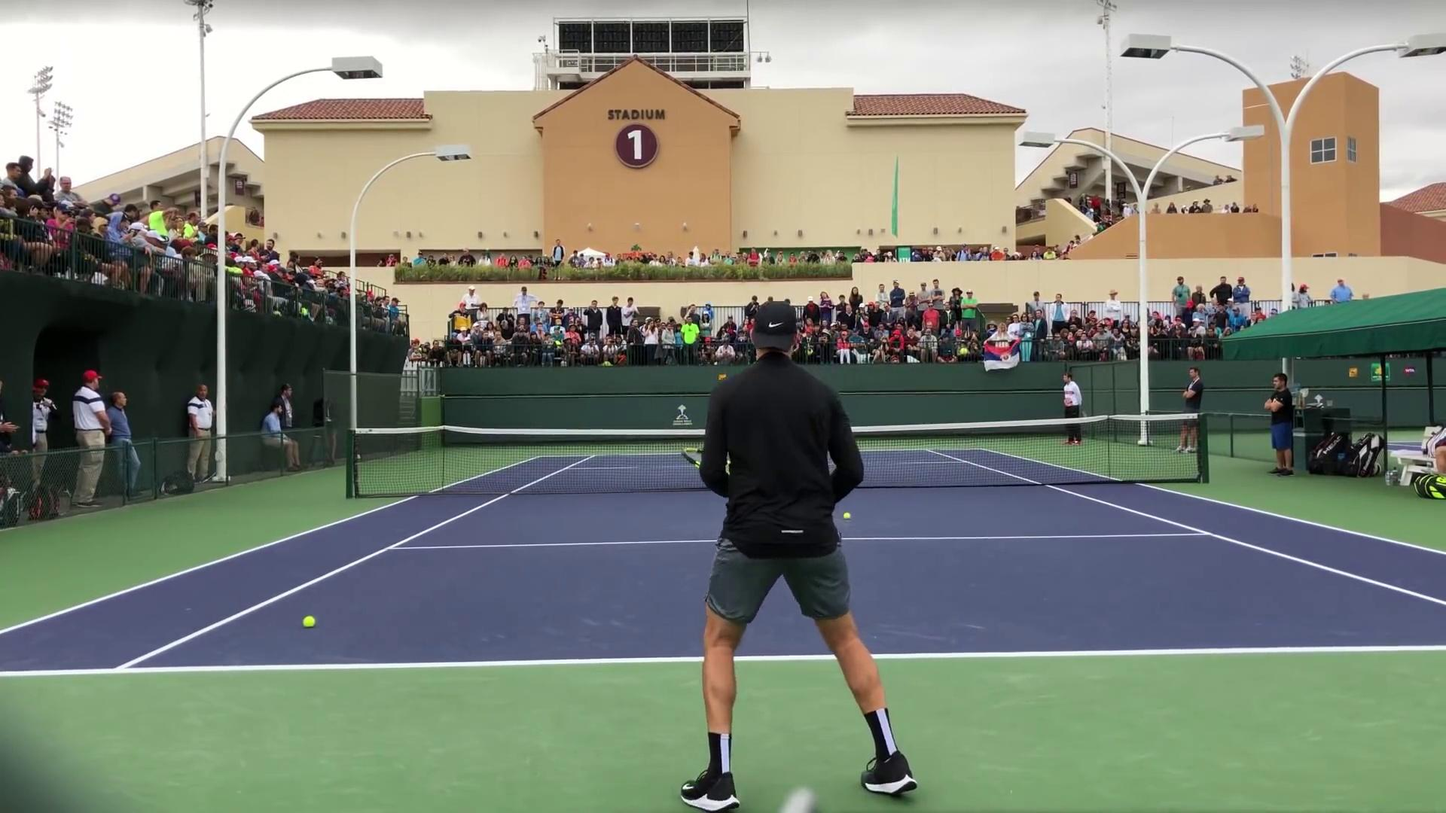ball: (300, 616, 316, 629), (842, 511, 851, 519)
